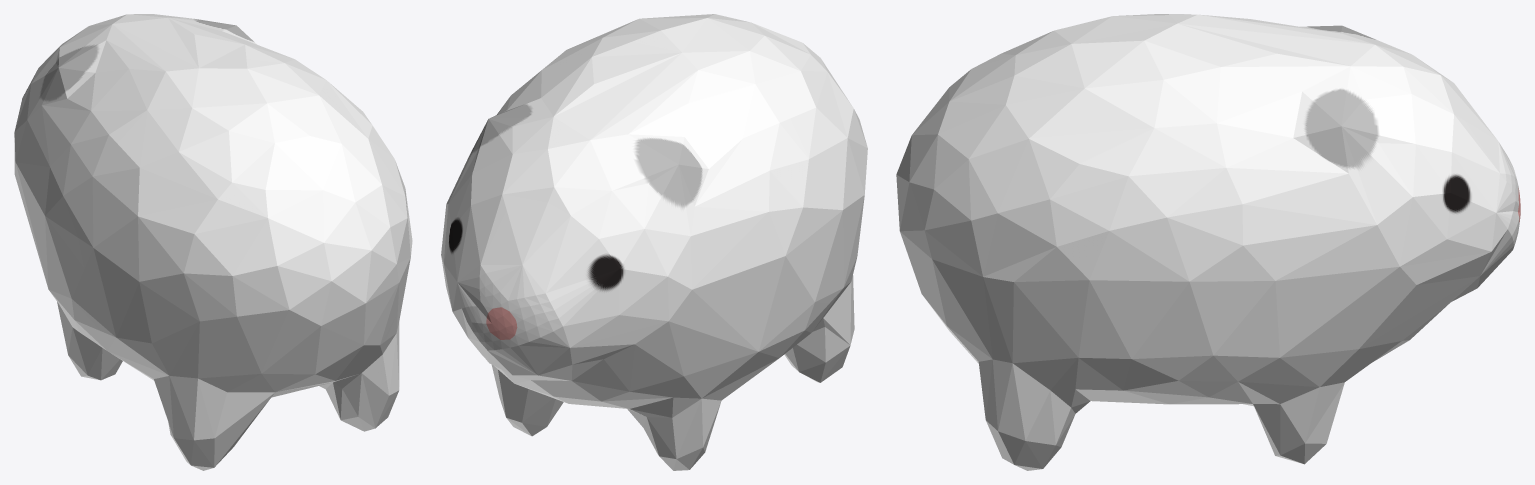
File: animal_guineapig_blob.obj
3 renders of one model, left to right at view 1: azimuth 30°, elevation 25°; view 2: azimuth 150°, elevation 25°; view 3: azimuth 270°, elevation 25°, orthographic. The views are drawn at different scales.
Parts seen in each view (by area): view 1: animal_guineapig_blob; view 2: animal_guineapig_blob; view 3: animal_guineapig_blob.
Boxes of the visible parts, <box> form: animal_guineapig_blob: <box>14,14,412,470</box>; animal_guineapig_blob: <box>441,14,867,470</box>; animal_guineapig_blob: <box>896,14,1520,470</box>.
Bounding box in the file's own units: 0.426 × 0.4681 × 0.6736.
